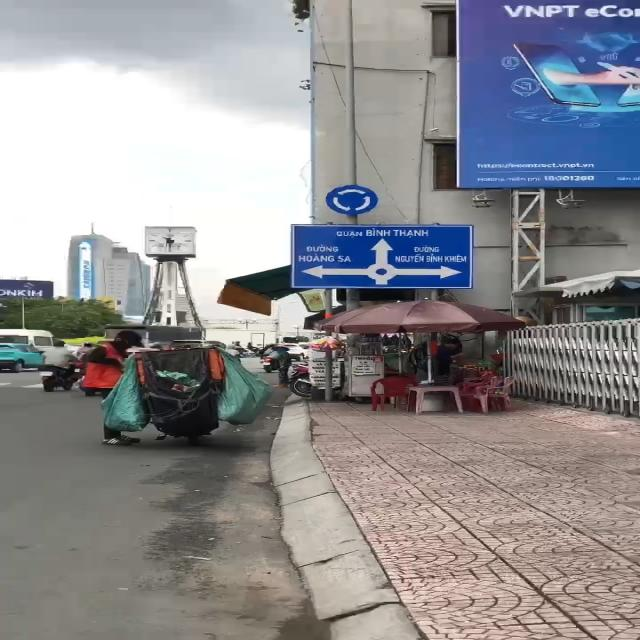Bien bao noi giao nhau chay theo vong xuyen: (321, 181, 379, 216)
